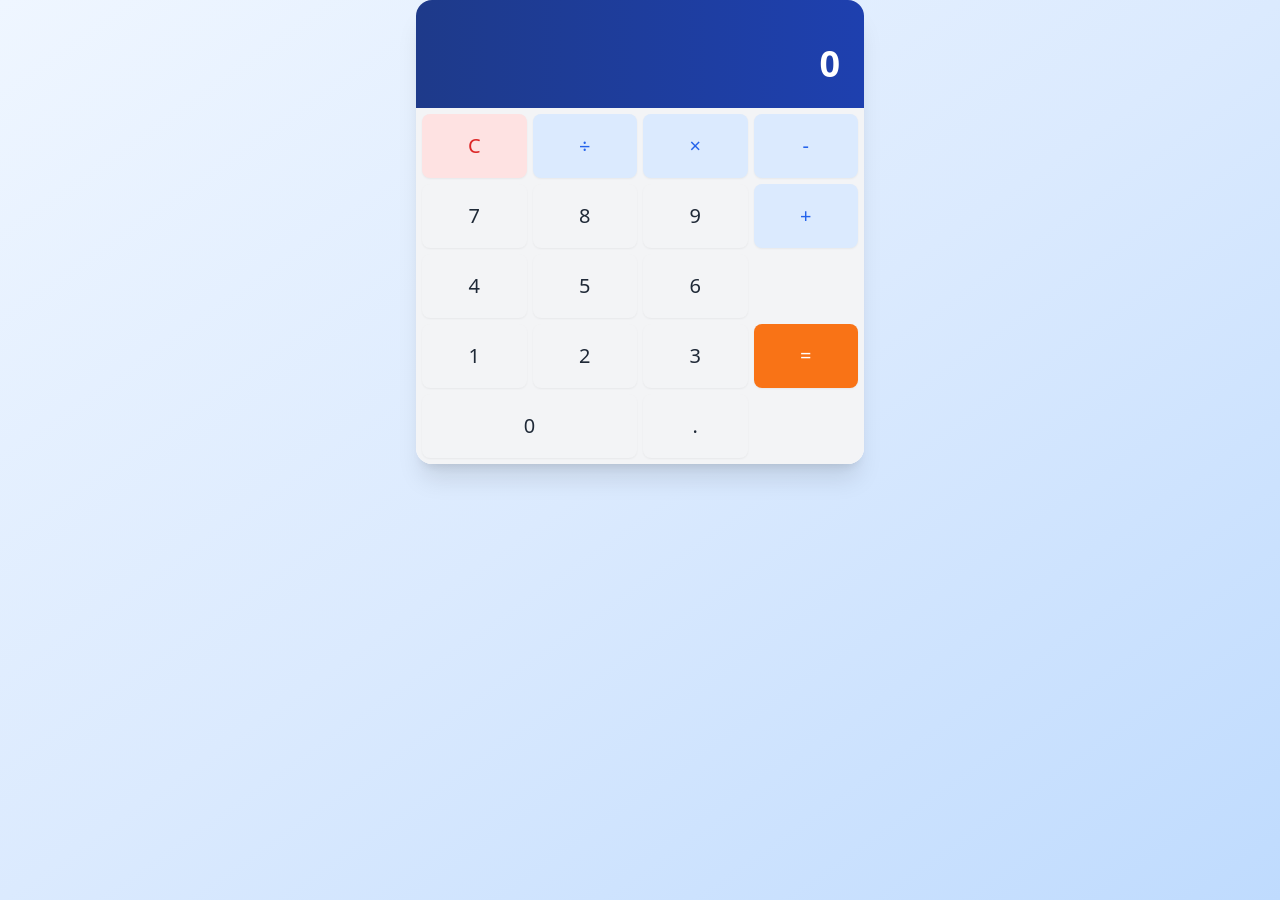
Test case: Calculator Component › should perform addition correctly
Click the button "5". click: (585,286)
box: [532,254,637,318]
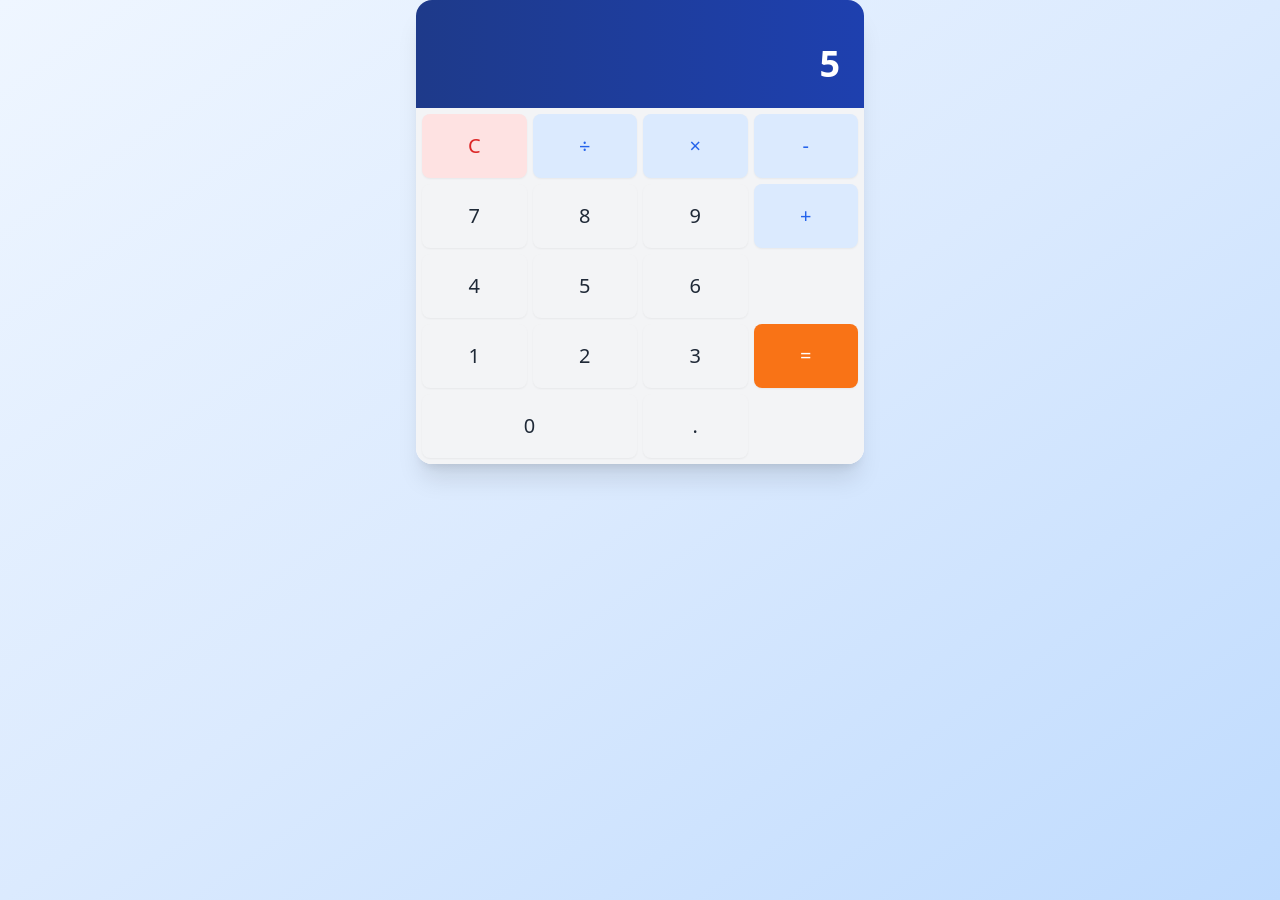
Click the button "+". click: (806,216)
box: [754,184,858,248]
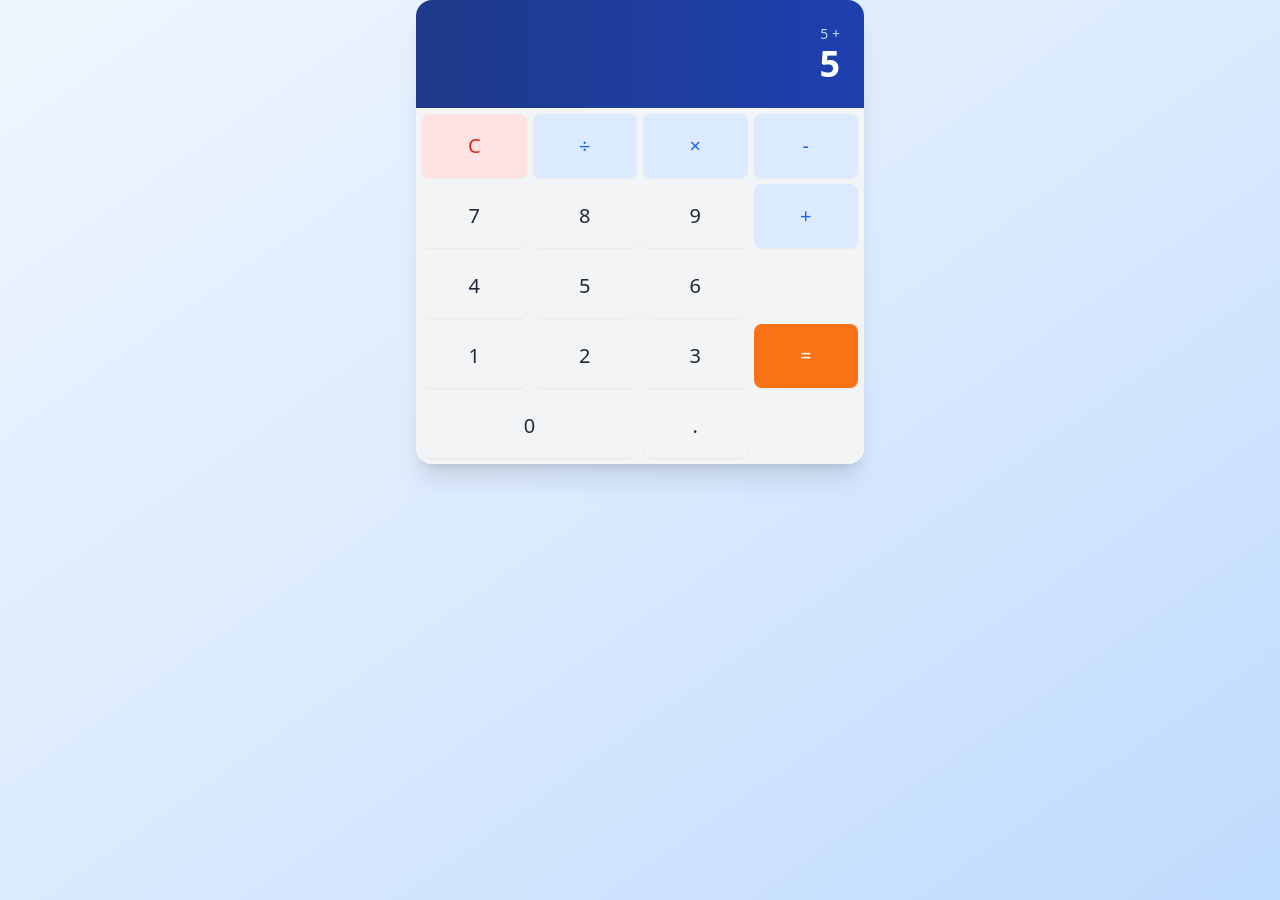
Click the button "3". click: (695,356)
box: [643,324,748,388]
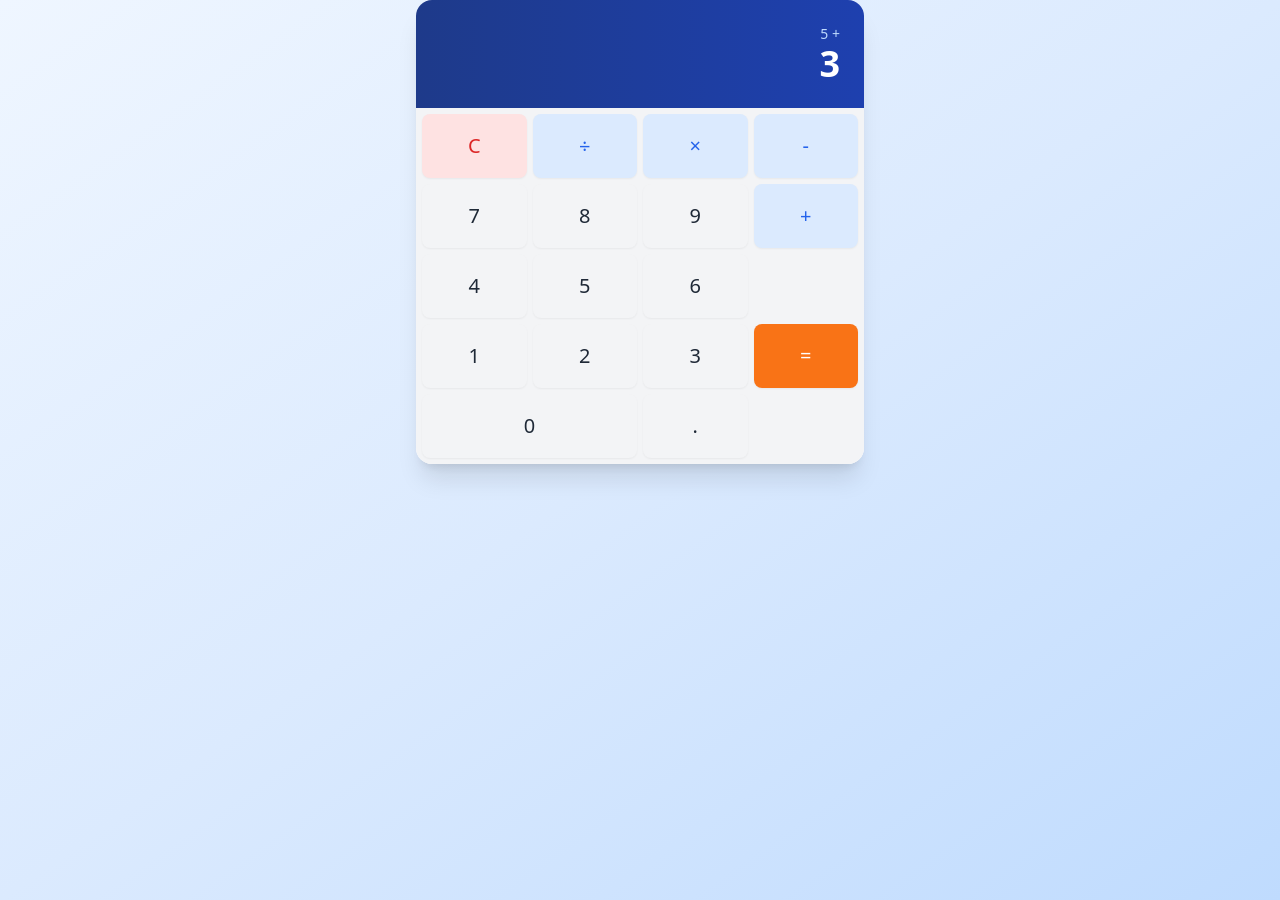
Click the button "=". click: (806,356)
box: [754,324,858,388]
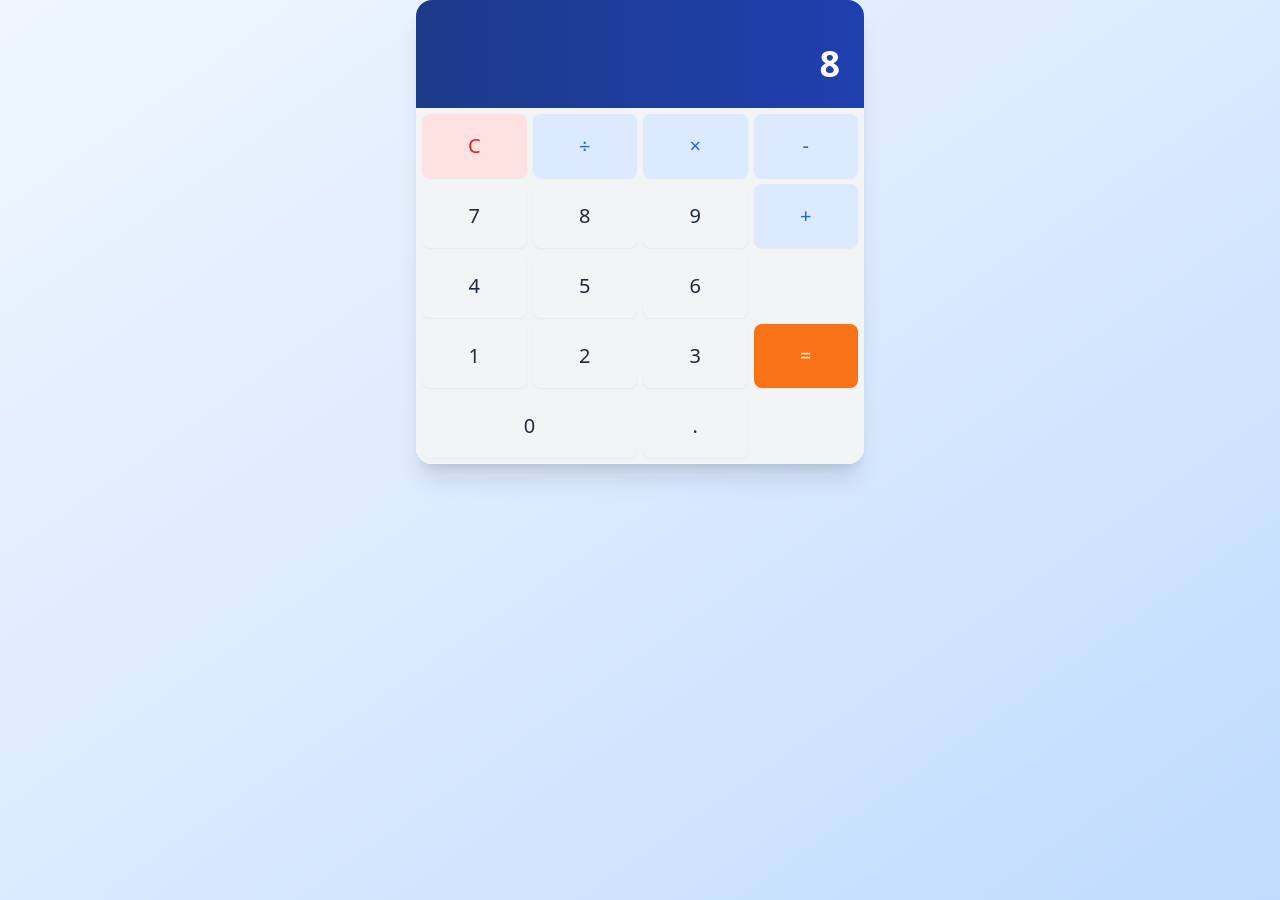
Check: the field with test id "calculator-display" reads "8", box [819,39,840,88]
